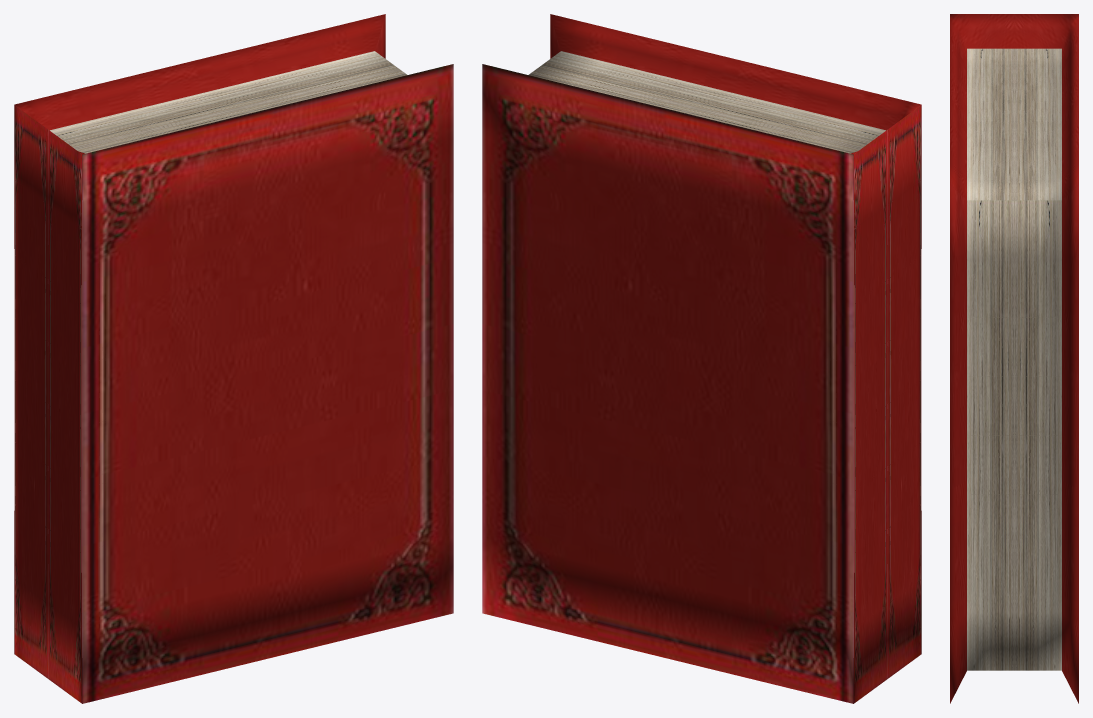
File: Book.fbx
3 views of the same model, side by side, from view 1: azimuth 30°, elevation 25°; view 2: azimuth 150°, elevation 25°; view 3: azimuth 270°, elevation 25° (orthographic). The views are drawn at different scales.
Visible parts, largest first — view 1: Cube; view 2: Cube; view 3: Cube.
Part boxes in pixels (x1,y1,x2,y2): Cube: [14, 14, 453, 703]; Cube: [482, 14, 921, 703]; Cube: [950, 14, 1078, 703].
Bounding box in the file's own units: 6.38 × 9.02 × 2.03.
